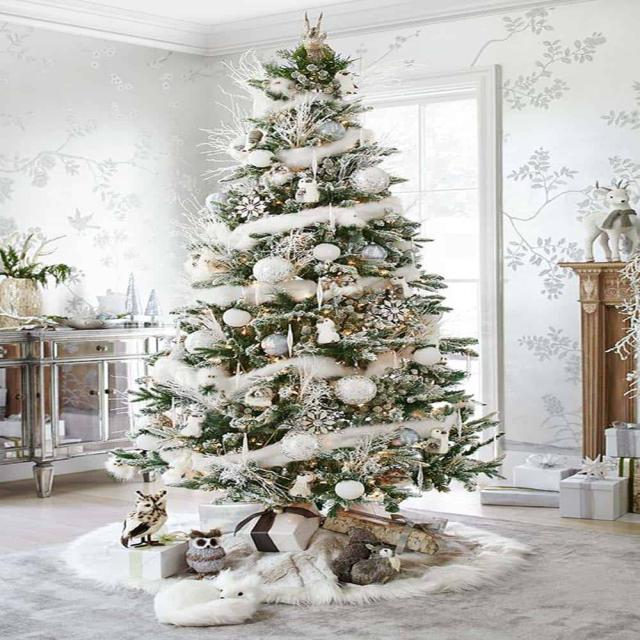Christmas-tree: (149, 9, 495, 488)
